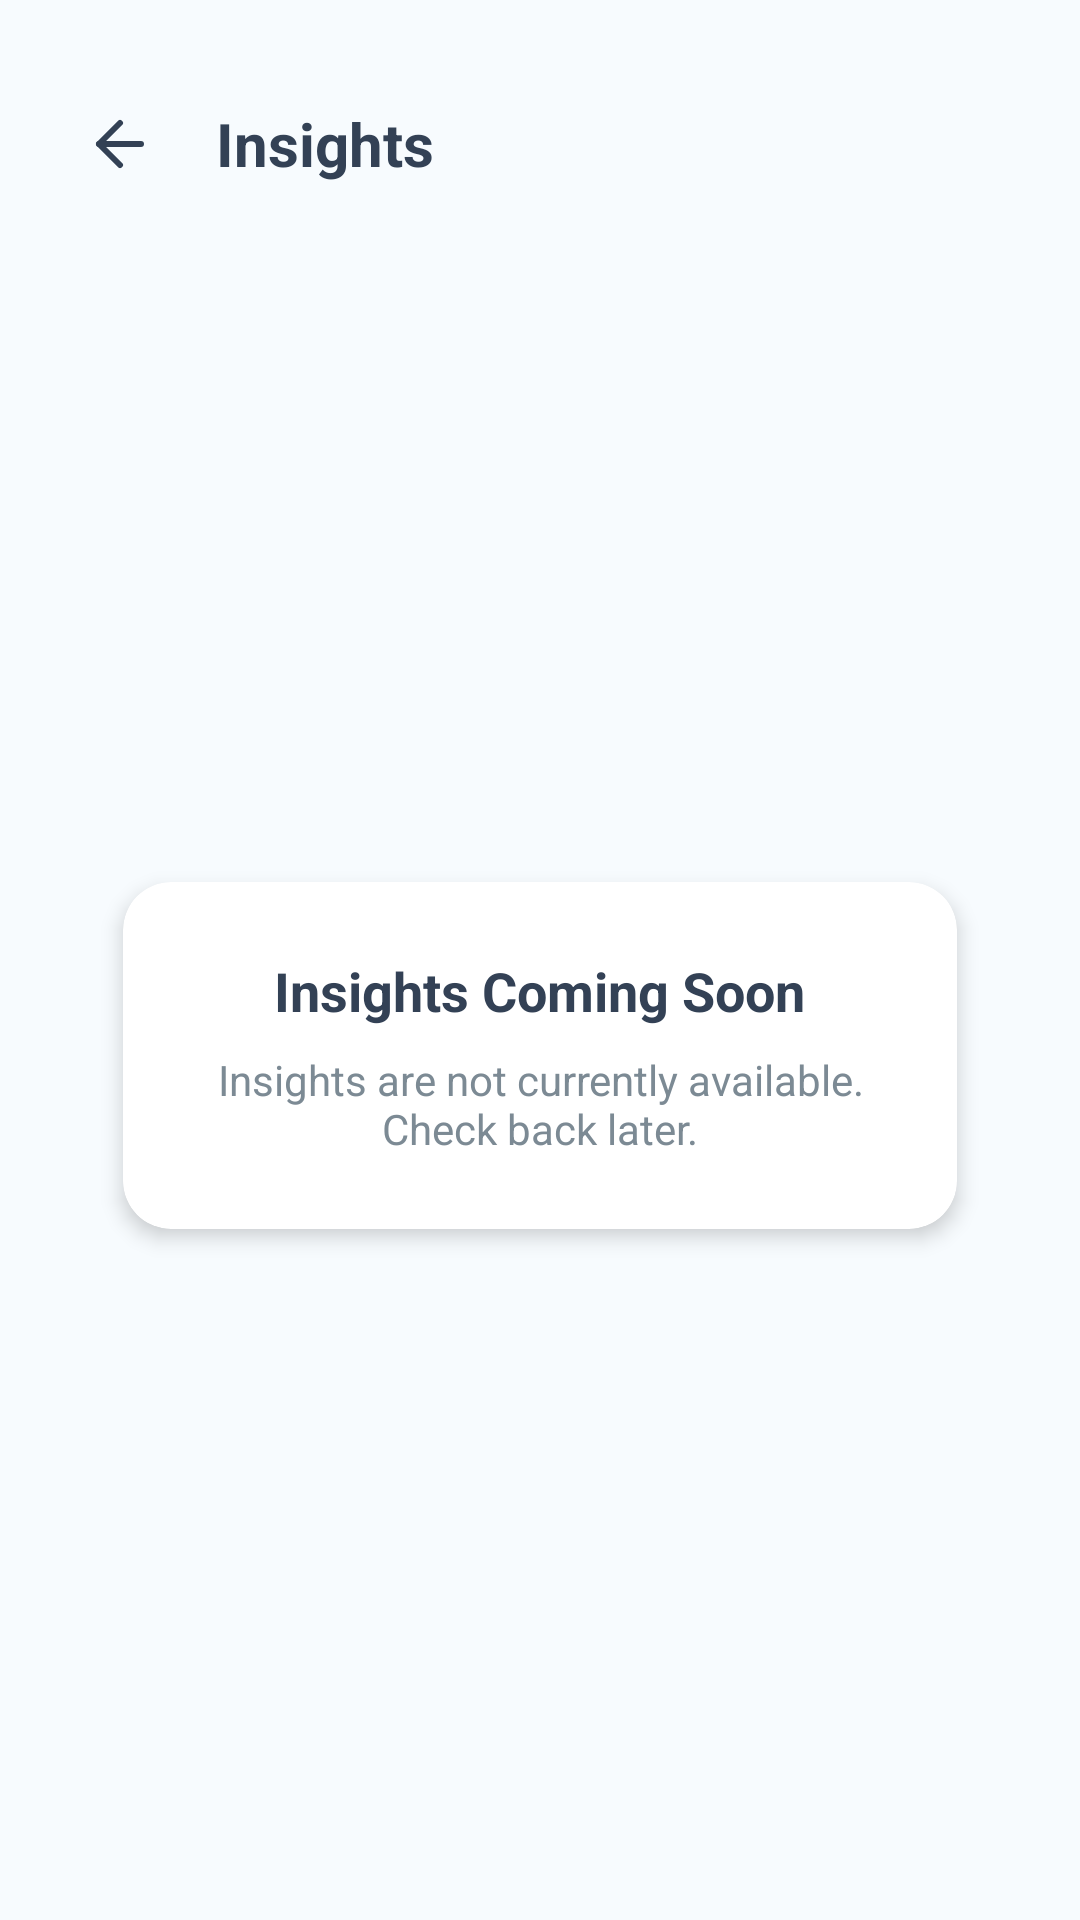

Icon click points for this 1080*1920 phone screenshot, format [x,y]:
Back: [120,144]
